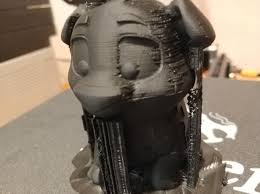fail: (145, 4, 190, 93), (182, 93, 204, 187), (109, 65, 137, 104)
